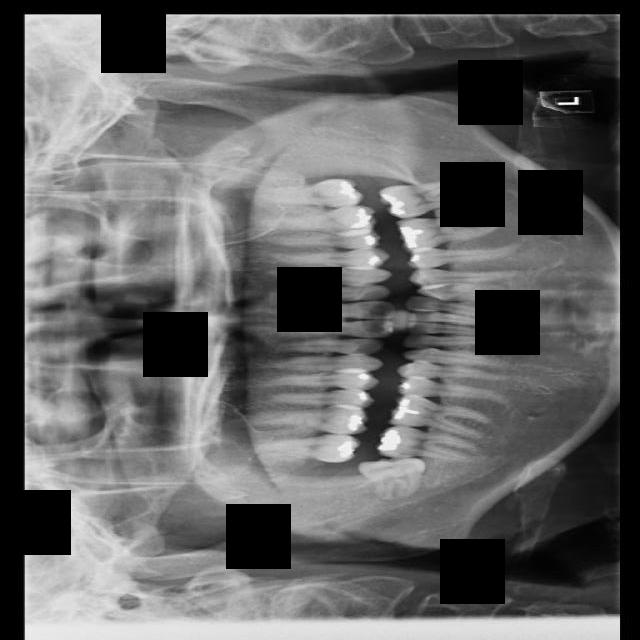52: (385, 387, 436, 436), (396, 210, 448, 255), (377, 181, 433, 220), (311, 174, 366, 211), (307, 429, 362, 466), (325, 202, 378, 238), (319, 402, 370, 435), (376, 424, 426, 457), (326, 364, 381, 393), (331, 225, 382, 254), (334, 245, 392, 270), (405, 244, 448, 271), (325, 387, 375, 410), (397, 375, 439, 397)
73: (526, 63, 534, 67)
BioHorizons Implant: (241, 176, 365, 212)
Blue Sky Bio Implant: (377, 174, 481, 221)
Caries: (254, 432, 361, 462)
Implant: (374, 421, 483, 470)
Keystone Dental Implant: (358, 451, 430, 505)
